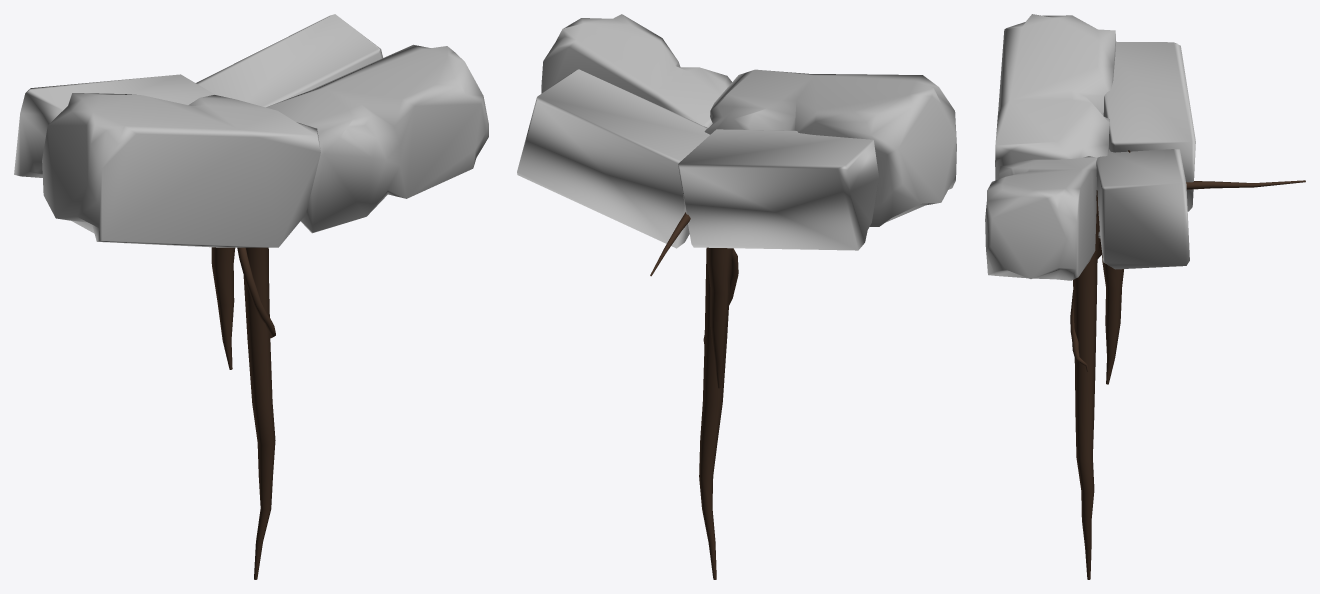
File: VineCeiling2.fbx
The picture shows the model from 3 angles, left to right: view 1: azimuth 30°, elevation 25°; view 2: azimuth 150°, elevation 25°; view 3: azimuth 270°, elevation 25°; orthographic projection. The views are drawn at different scales.
Parts seen in each view (by area): view 1: Cube_006.013; view 2: Cube_006.013; view 3: Cube_006.013.
Part boxes in pixels (x1=…): Cube_006.013: x1=14, y1=14, x2=488, y2=579; Cube_006.013: x1=517, y1=14, x2=956, y2=579; Cube_006.013: x1=985, y1=14, x2=1305, y2=579.
Bounding box in the file's own units: 403 × 494 × 299.
